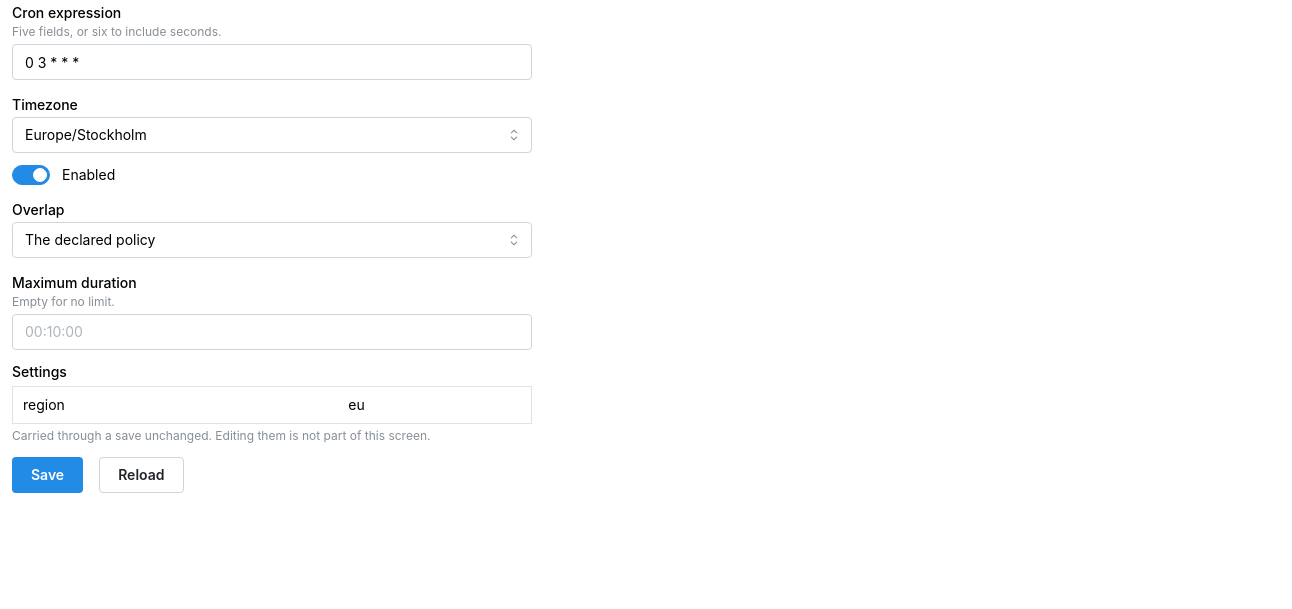
Scenario: ScheduleForm › renders the conflict prose and reloads the schedule underneath it
This screenshot has width=1292, height=609.
Step 1. Replace the text in the field labelled "Cron expression" with "0 4 * * *" → x=272, y=62, box x1=12 y1=44 x2=532 y2=80
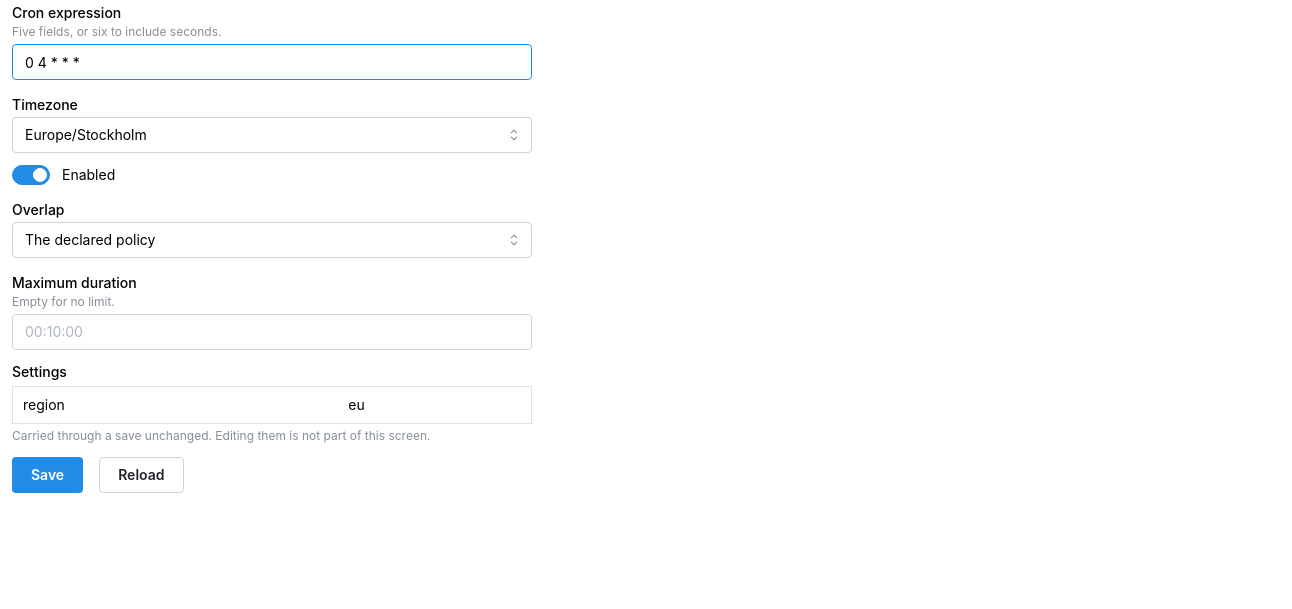
Step 2. Click the button "Save" → x=48, y=475, box x1=12 y1=457 x2=83 y2=493
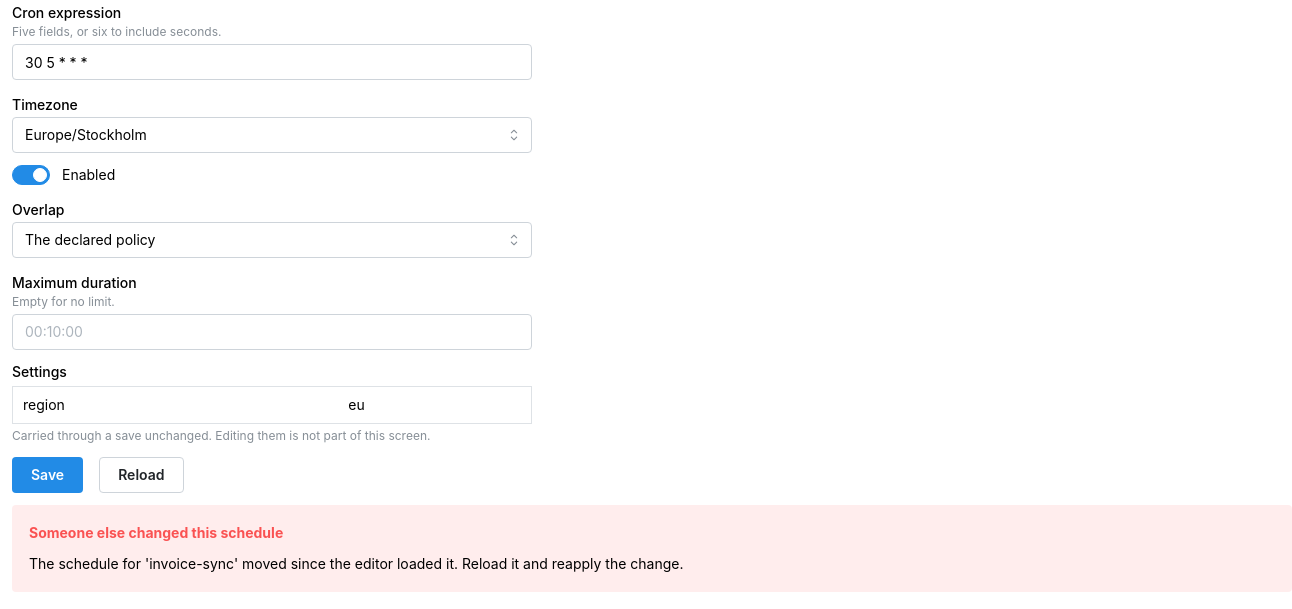
Expected: the text "moved since the editor loaded it" is shown, x1=29 y1=555 x2=684 y2=572
Expected: the field labelled "Cron expression" holds "30 5 * * *", x1=12 y1=44 x2=532 y2=80
